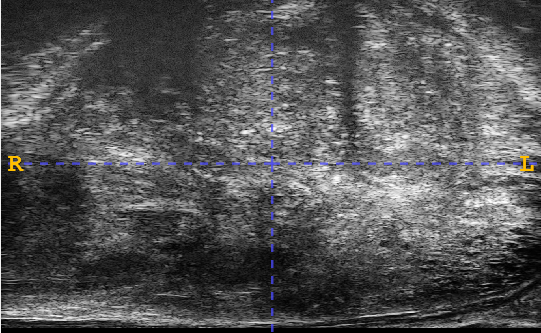calcifications: (288, 170, 427, 229)
